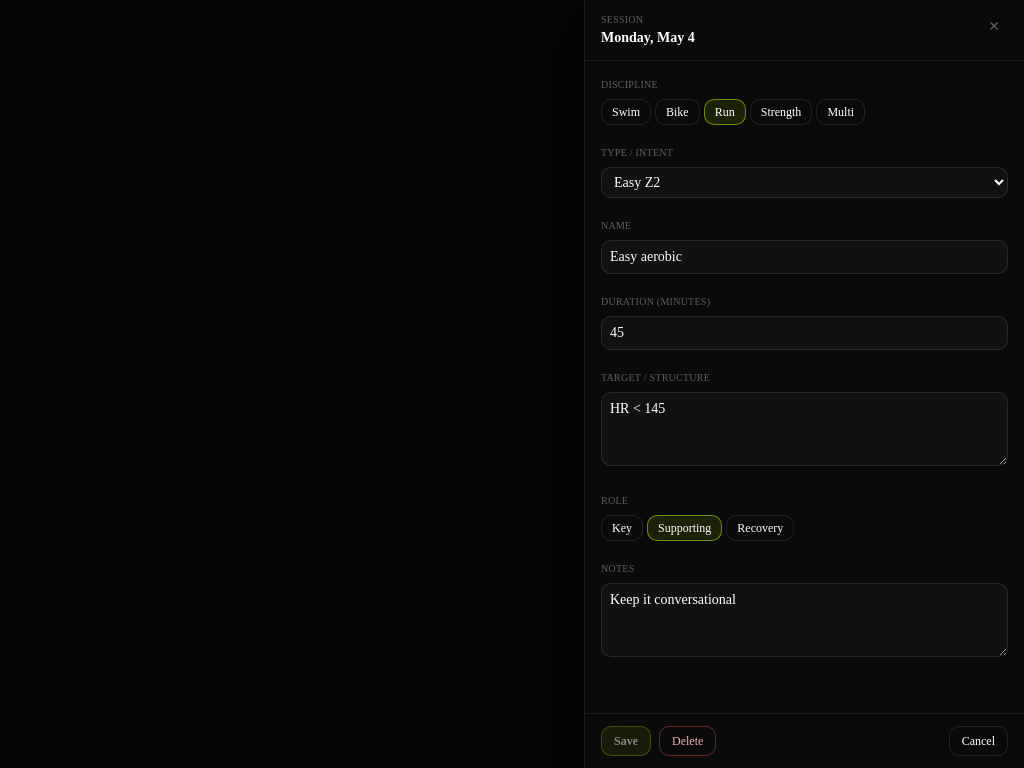
Scenario: SessionDrawer › surfaces an error and stays open if save fails
Replace the text in the number field labelled "Duration (minutes)" with "60": (804, 333) [601,316,1008,350]
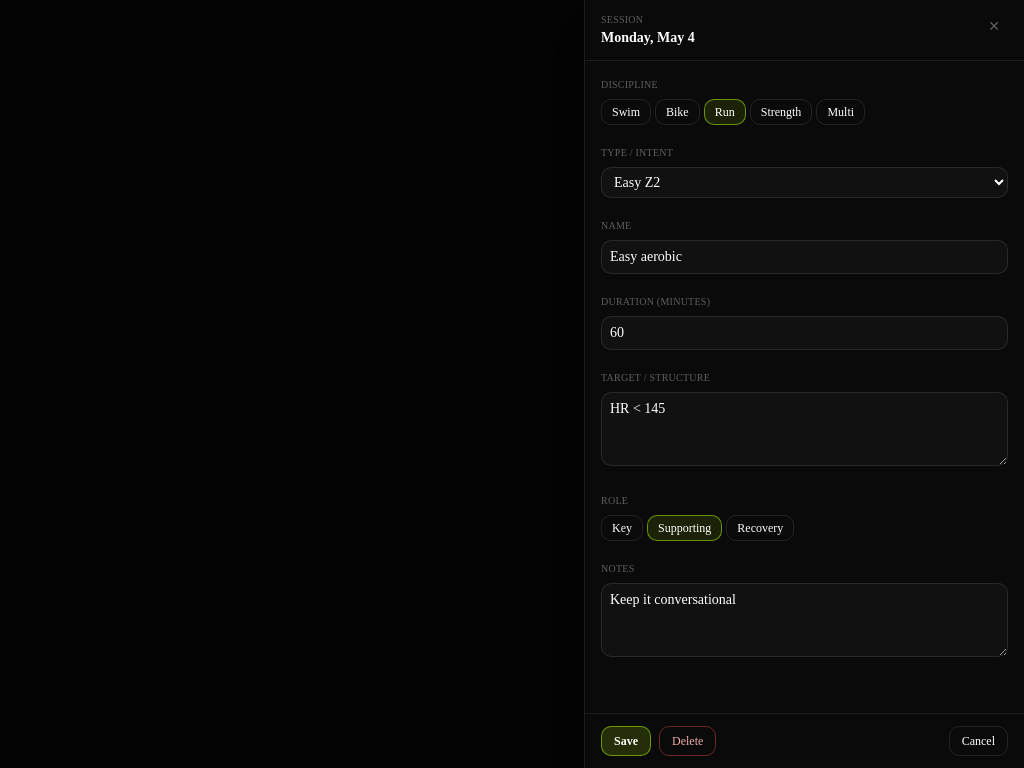
Click the button "Save": (626, 741) [601,726,651,756]
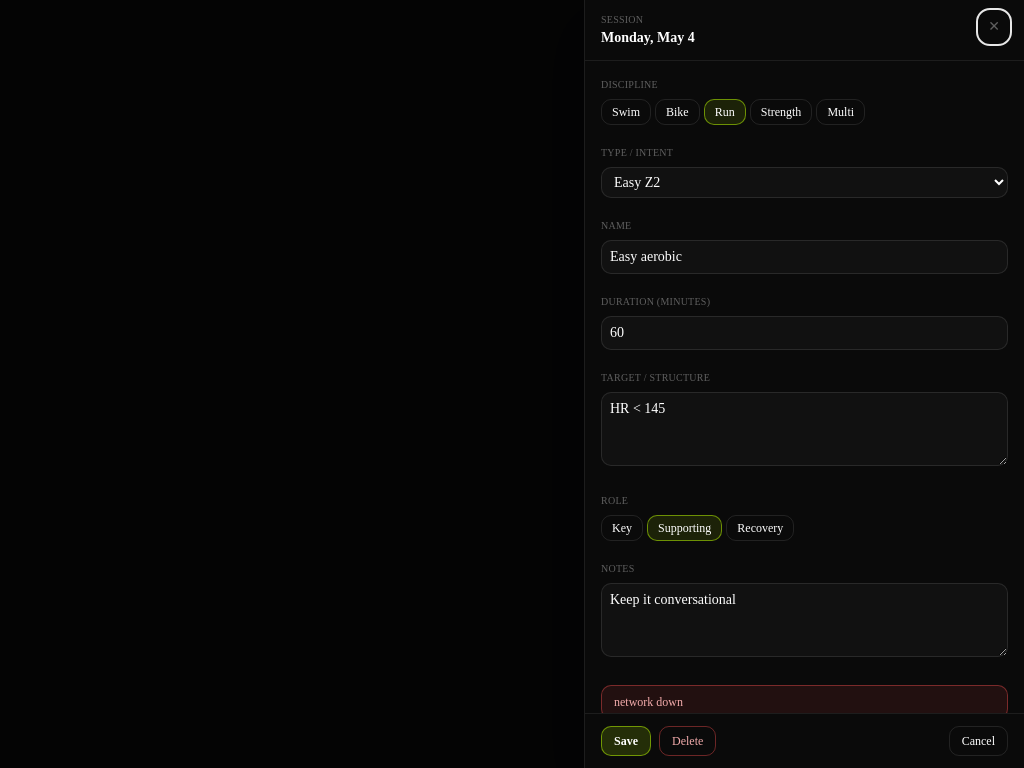
expect the message reads "network down": met, box [614,695,683,709]
